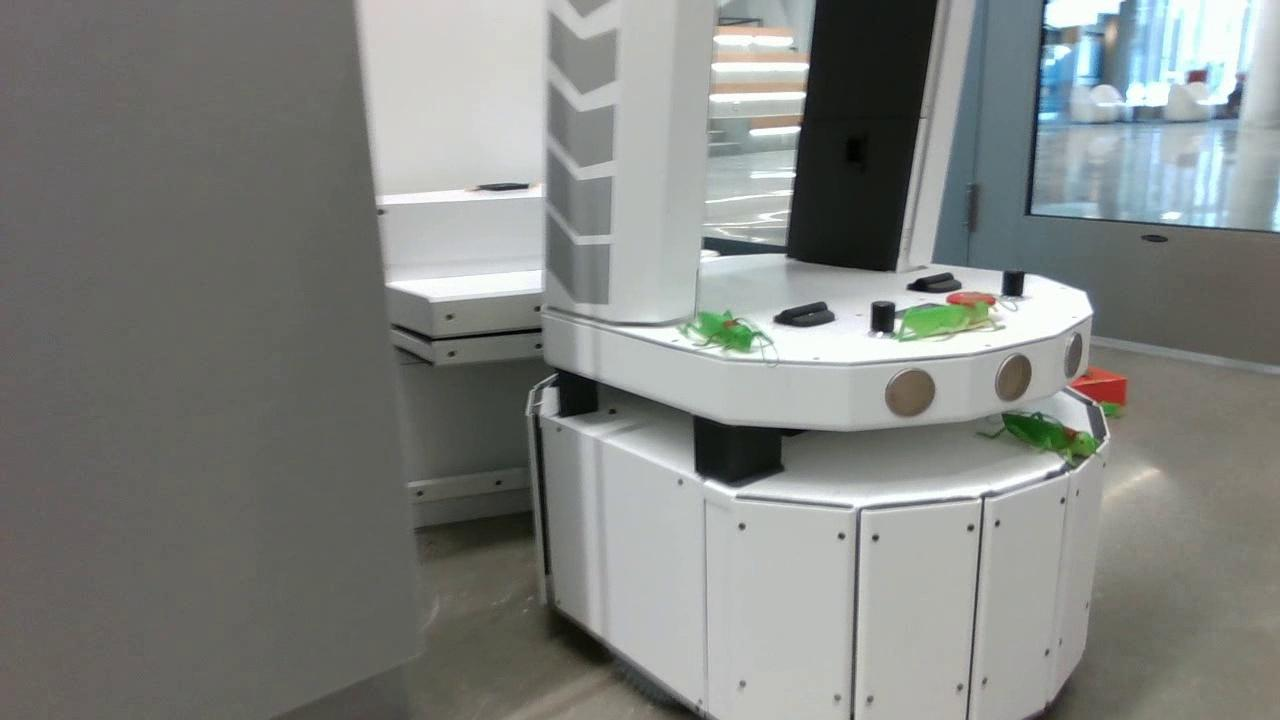grasshopper: (980, 407, 1098, 470), (684, 298, 772, 361), (894, 294, 1004, 343), (1095, 397, 1123, 423)
